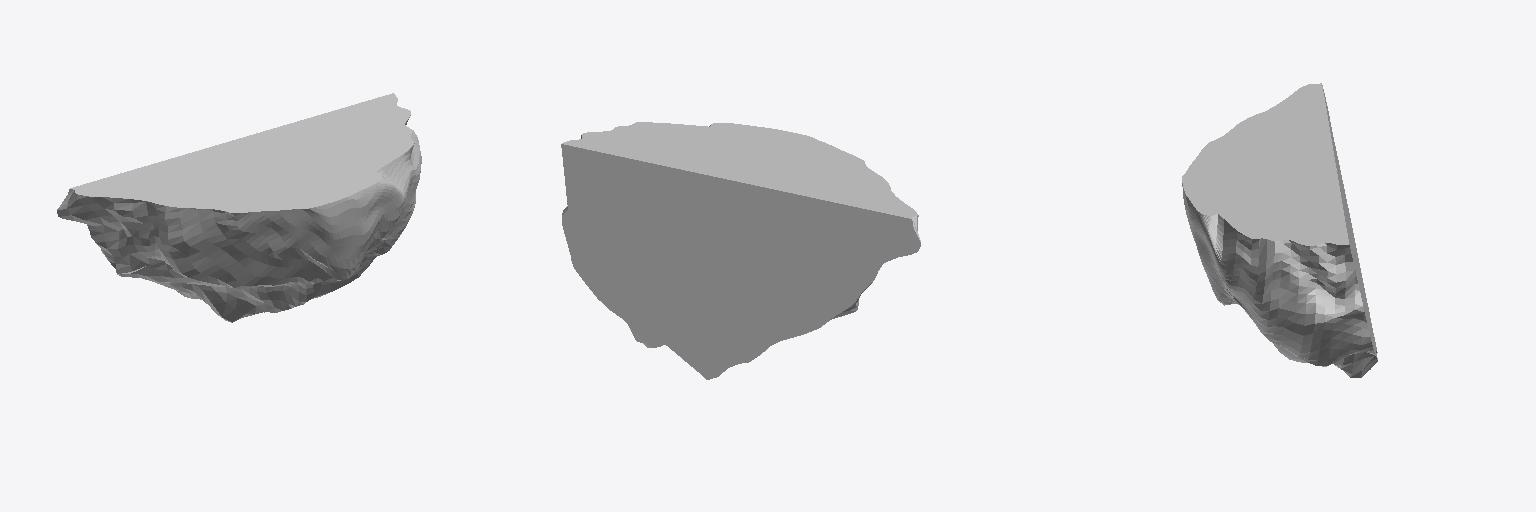
File: Asteroid2fifth5.obj
3 renders of one model, left to right at view 1: azimuth 30°, elevation 25°; view 2: azimuth 150°, elevation 25°; view 3: azimuth 270°, elevation 25°, orthographic.
Parts seen in each view (by area): view 1: asteroid2; view 2: asteroid2; view 3: asteroid2.
Part boxes in pixels (x1,y1,x2,y2): asteroid2: (57, 93, 421, 322); asteroid2: (561, 122, 920, 379); asteroid2: (1182, 83, 1377, 377).
Bounding box in the file's own units: 2.47 × 1.28 × 1.19.